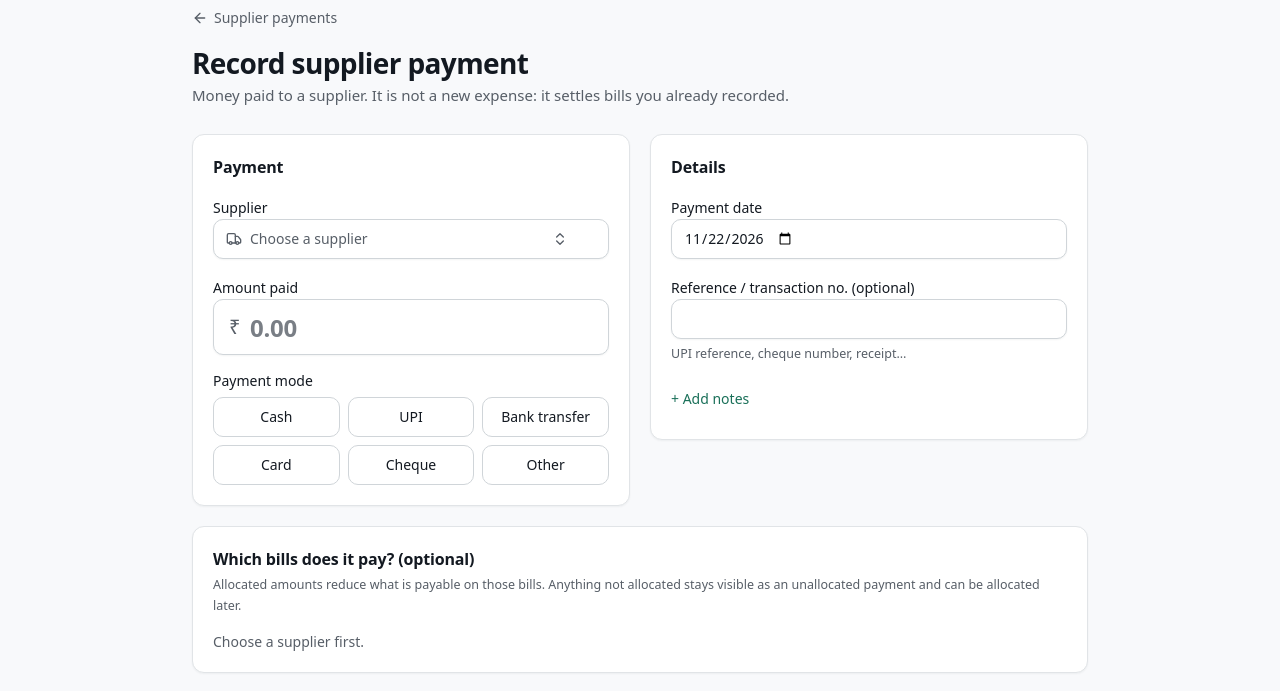
Test: supplier payment form: supplier dropdown › keeps an archived supplier marked as archived after it is chosen
The image size is (1280, 691).
What coordinates should you click on to do the following:
click the button "Choose a supplier"
I would click on:
 (309, 239)
Its box is [213,219,609,259].
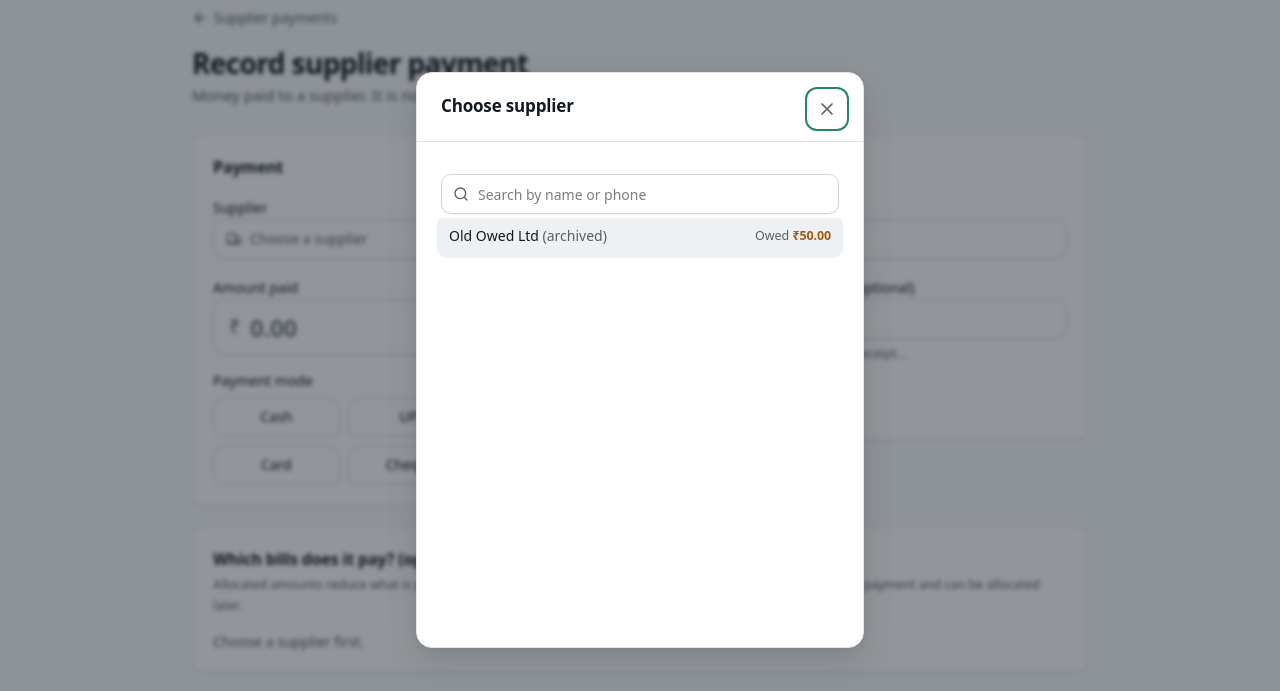
What coordinates should you click on to do the following:
click the option "Old Owed Ltd (archived) Owed ₹50.00"
I would click on:
 (494, 236)
Its box is [437,214,843,258].
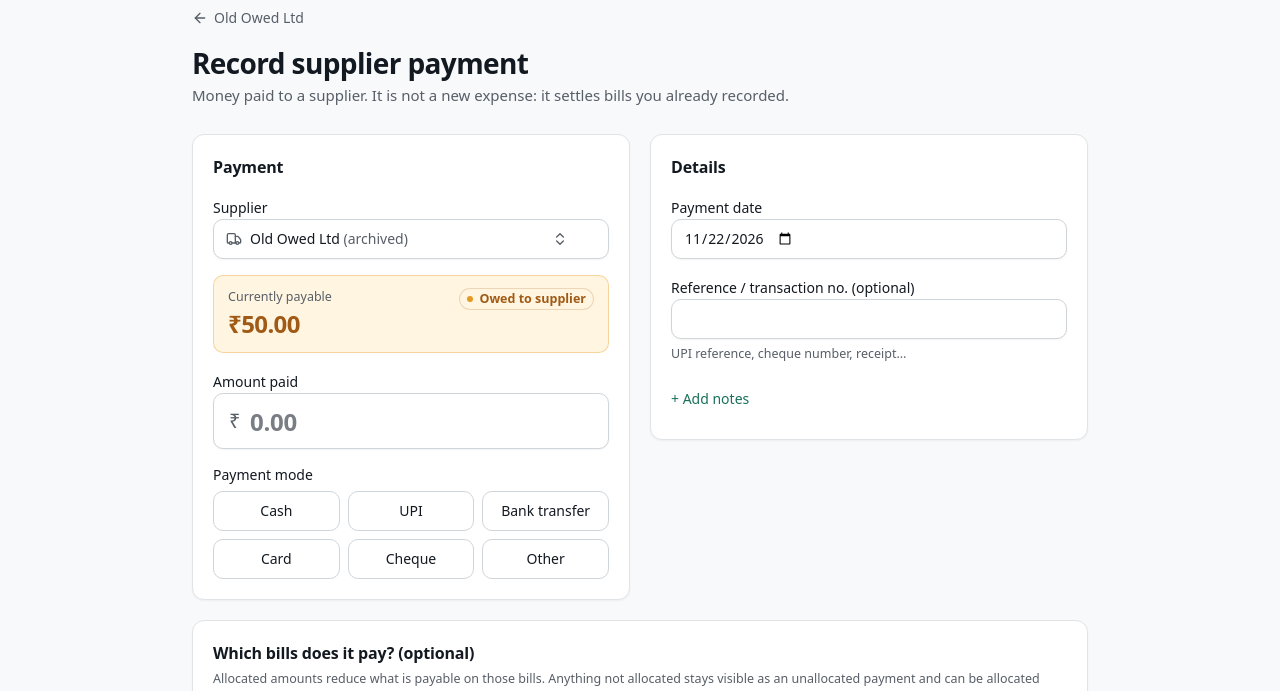
Check: the button named "Supplier" reads "Old Owed Ltd (archived)", box [213,219,609,259]
Check: the text "Currently payable ₹50.00" is shown, box [228,288,332,340]
